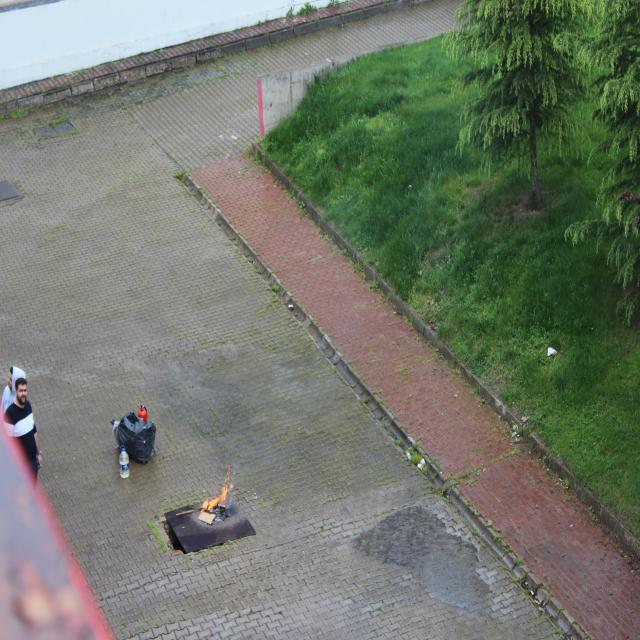fire: (195, 457, 239, 534)
